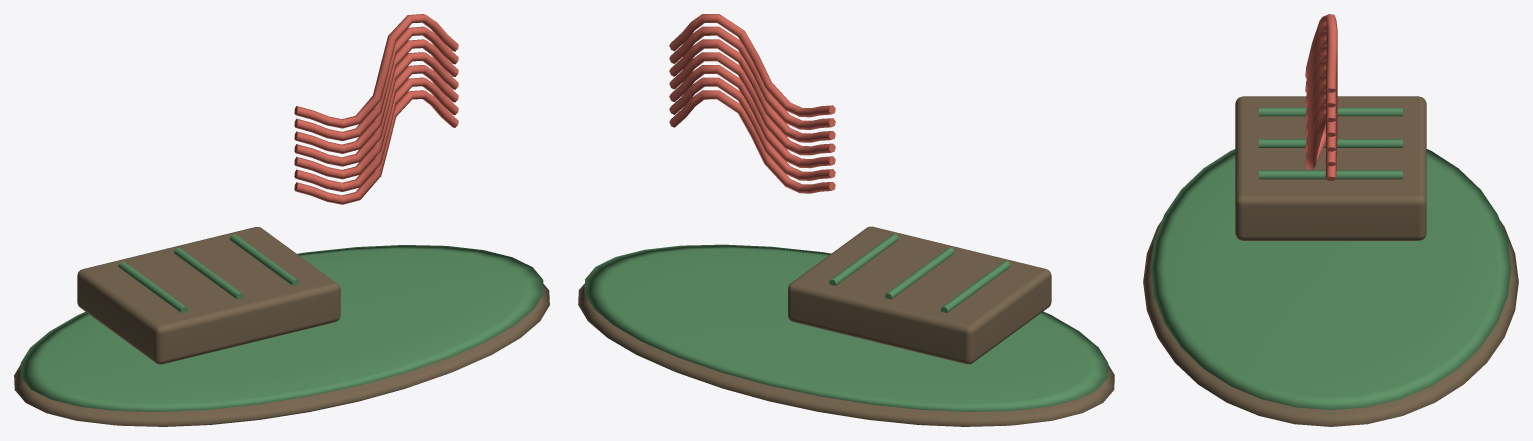
File: tired-fieldwork.glb
3 views of the same model, side by side, from view 1: azimuth 30°, elevation 25°; view 2: azimuth 150°, elevation 25°; view 3: azimuth 270°, elevation 25° (orthographic). The views are drawn at different scales.
Parts seen in each view (by area): view 1: tired-fieldwork_surface_01, tired-fieldwork_surface_00, tired-fieldwork_surface_02; view 2: tired-fieldwork_surface_01, tired-fieldwork_surface_00, tired-fieldwork_surface_02; view 3: tired-fieldwork_surface_01, tired-fieldwork_surface_00, tired-fieldwork_surface_02.
Part boxes in pixels (box(x1,y1,x2,y2)): tired-fieldwork_surface_01: box(20, 234, 543, 411); tired-fieldwork_surface_00: box(14, 227, 549, 426); tired-fieldwork_surface_02: box(294, 14, 458, 204); tired-fieldwork_surface_01: box(584, 234, 1108, 411); tired-fieldwork_surface_00: box(578, 226, 1114, 426); tired-fieldwork_surface_02: box(669, 14, 835, 193); tired-fieldwork_surface_01: box(1150, 107, 1511, 409); tired-fieldwork_surface_00: box(1143, 96, 1518, 426); tired-fieldwork_surface_02: box(1305, 14, 1337, 180).
Size of the model in its own units: 4.56 by 2.63 by 2.5.
